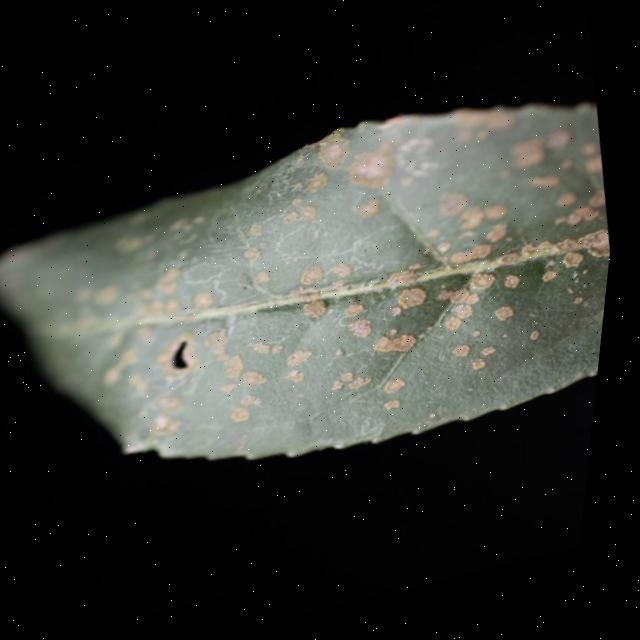Tea red rust: (138, 94, 630, 452)
